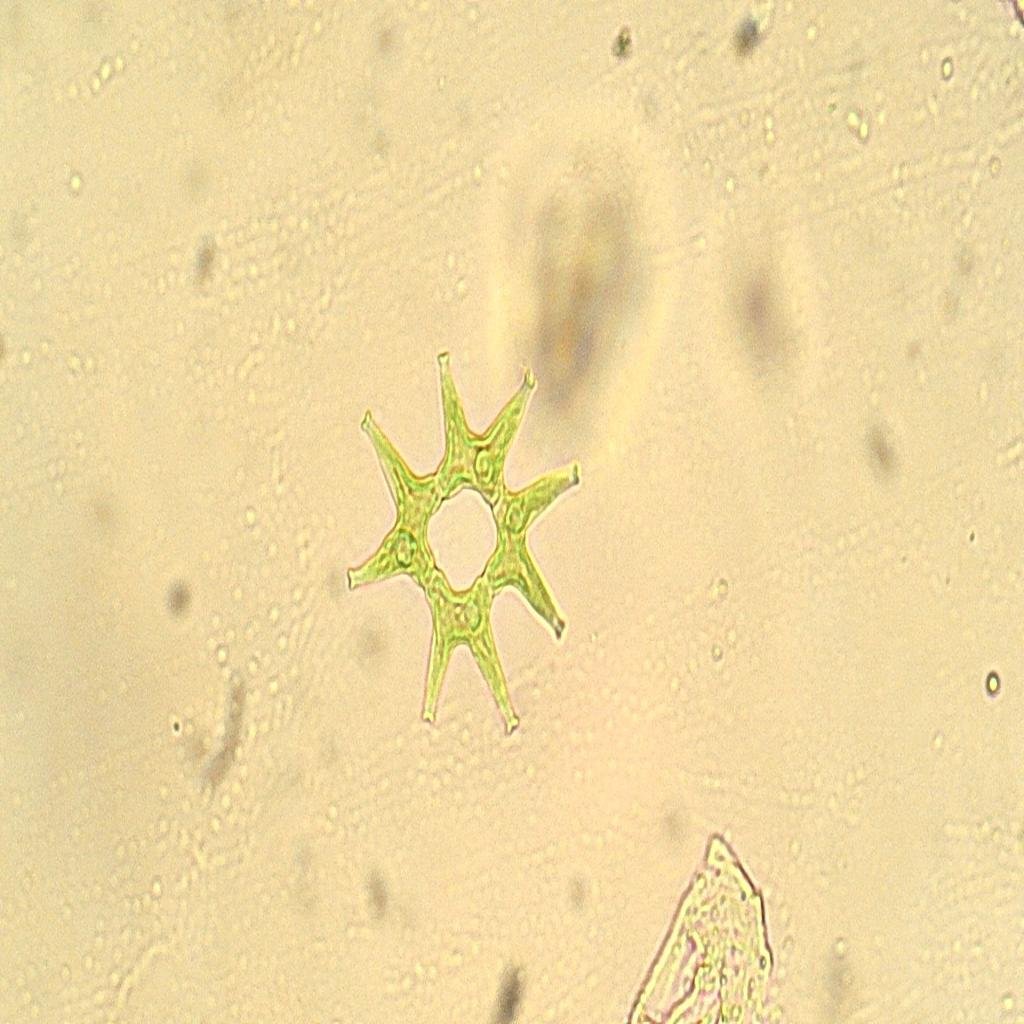Pediastrum_CO: (333, 326, 599, 746)
